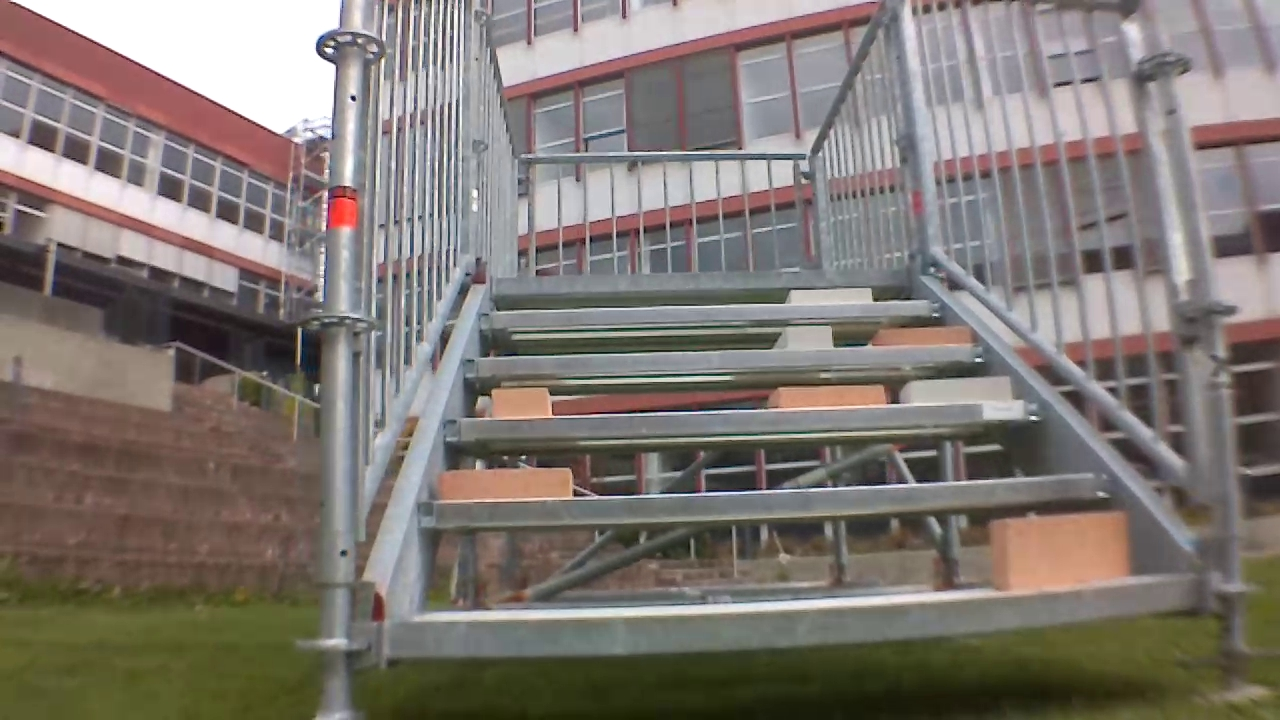brick: (983, 503, 1142, 590), (434, 464, 579, 499), (907, 375, 1014, 403), (763, 384, 889, 407), (871, 329, 966, 353), (486, 385, 553, 418), (780, 288, 876, 307), (775, 328, 838, 353)
edge: (380, 565, 1212, 667), (401, 473, 1131, 534), (440, 408, 1049, 433), (475, 300, 952, 329), (462, 345, 988, 366), (486, 273, 913, 290)
stairs: (332, 0, 1264, 709)
steps: (363, 264, 1194, 664)
